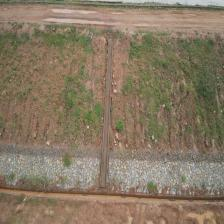rock toe: (108, 153, 224, 196), (0, 145, 100, 191)
slope drain: (100, 36, 113, 188)
